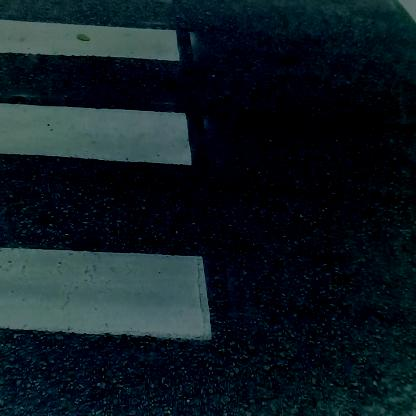crosswalk: (2, 16, 221, 370)
